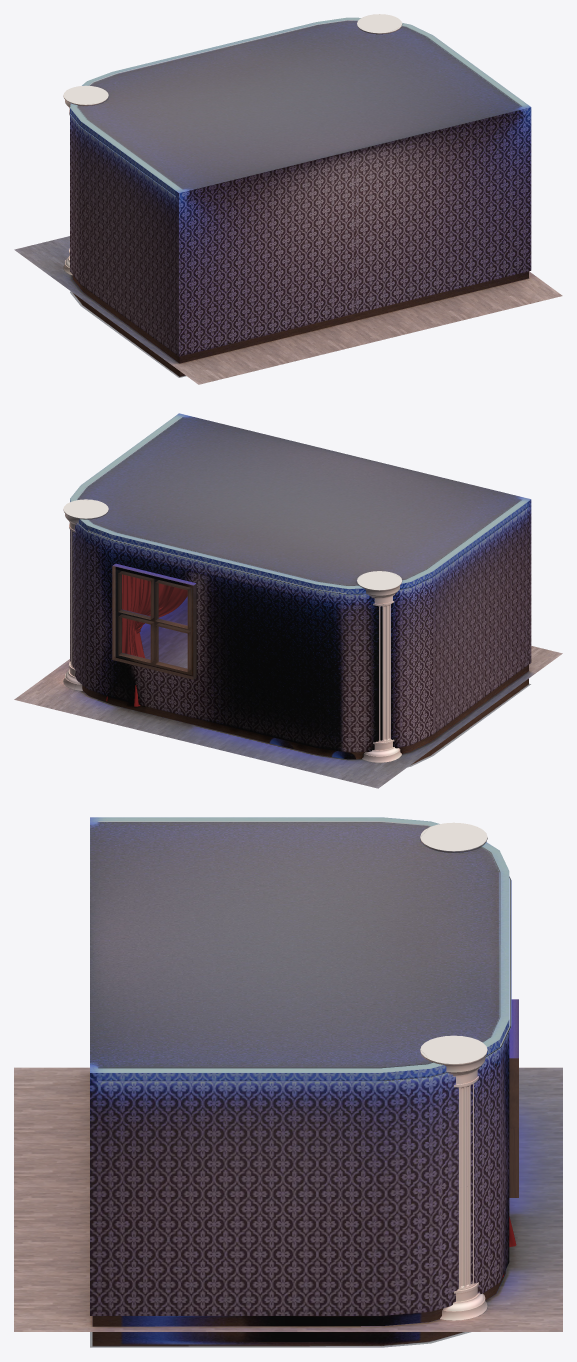
The model's file is Domain.glb.
The picture shows the model from 3 angles, top to bottom: view 1: azimuth 30°, elevation 25°; view 2: azimuth 150°, elevation 25°; view 3: azimuth 270°, elevation 25°; orthographic projection. The views are drawn at different scales.
Parts seen in each view (by area): view 1: Domain, Columns; view 2: Domain, Columns; view 3: Domain, Columns.
Part boxes in pixels (box(x1,y1,x2,y2)): Domain: box(14, 17, 562, 384); Columns: box(63, 14, 402, 275); Domain: box(14, 413, 562, 788); Columns: box(63, 499, 402, 762); Domain: box(14, 817, 562, 1347); Columns: box(420, 822, 487, 1320).
Size of the model in its own units: 36.81 by 17.96 by 32.32.
Materials: 6 (4 with a texture image).
